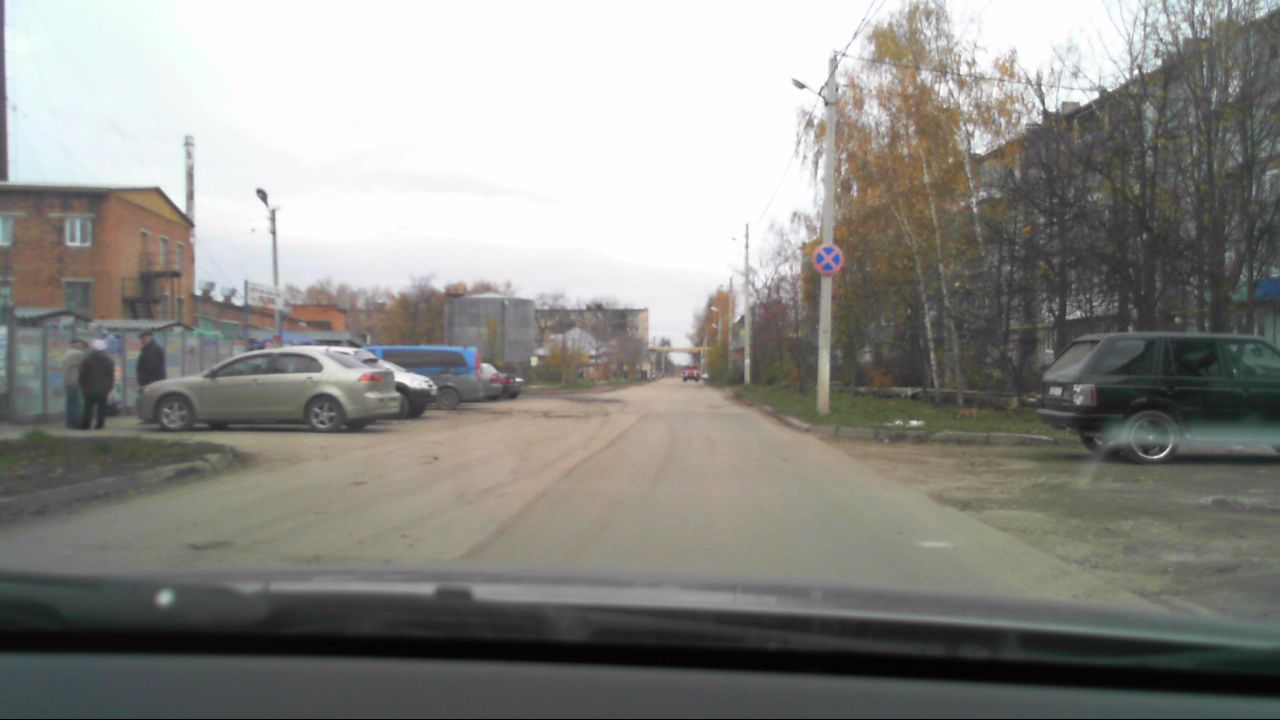No Parking: (813, 243, 842, 275)
